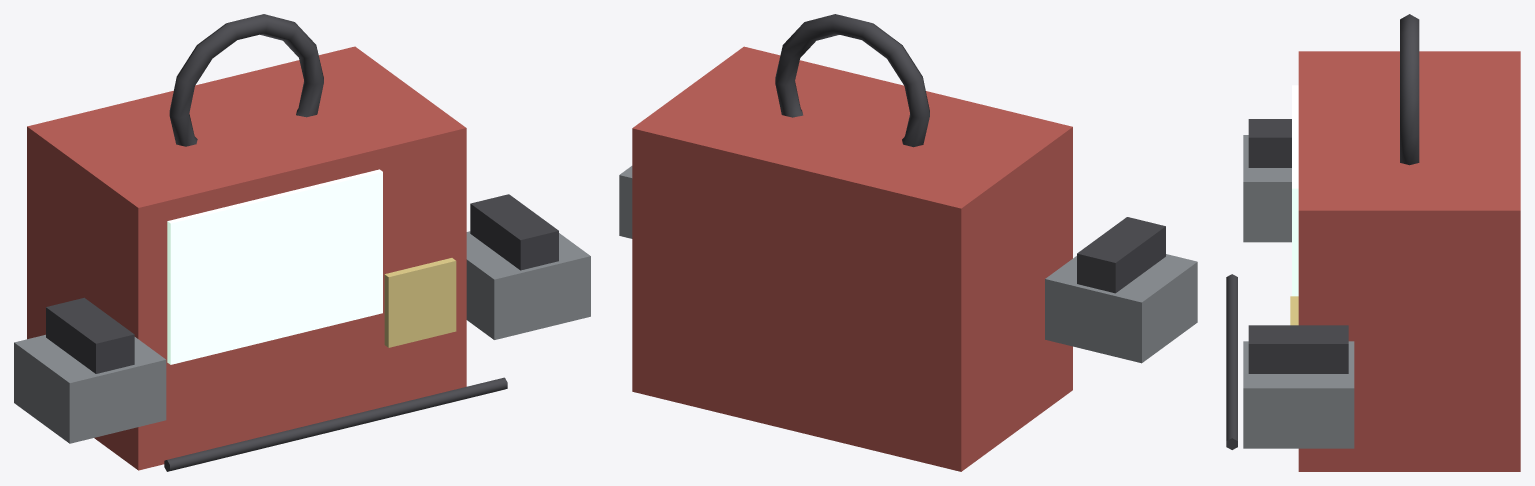
The model's file is Defibrillator_monitor.glb.
3 renders of one model, left to right at view 1: azimuth 30°, elevation 25°; view 2: azimuth 150°, elevation 25°; view 3: azimuth 270°, elevation 25°, orthographic.
Visible parts, largest first — view 1: Defibrillator_monitor; view 2: Defibrillator_monitor; view 3: Defibrillator_monitor.
Boxes of the visible parts, x1=… form: Defibrillator_monitor: x1=14, y1=14, x2=590, y2=471; Defibrillator_monitor: x1=619, y1=14, x2=1197, y2=471; Defibrillator_monitor: x1=1226, y1=14, x2=1520, y2=471.
Size of the model in its own units: 0.54 by 0.368 by 0.2652.
